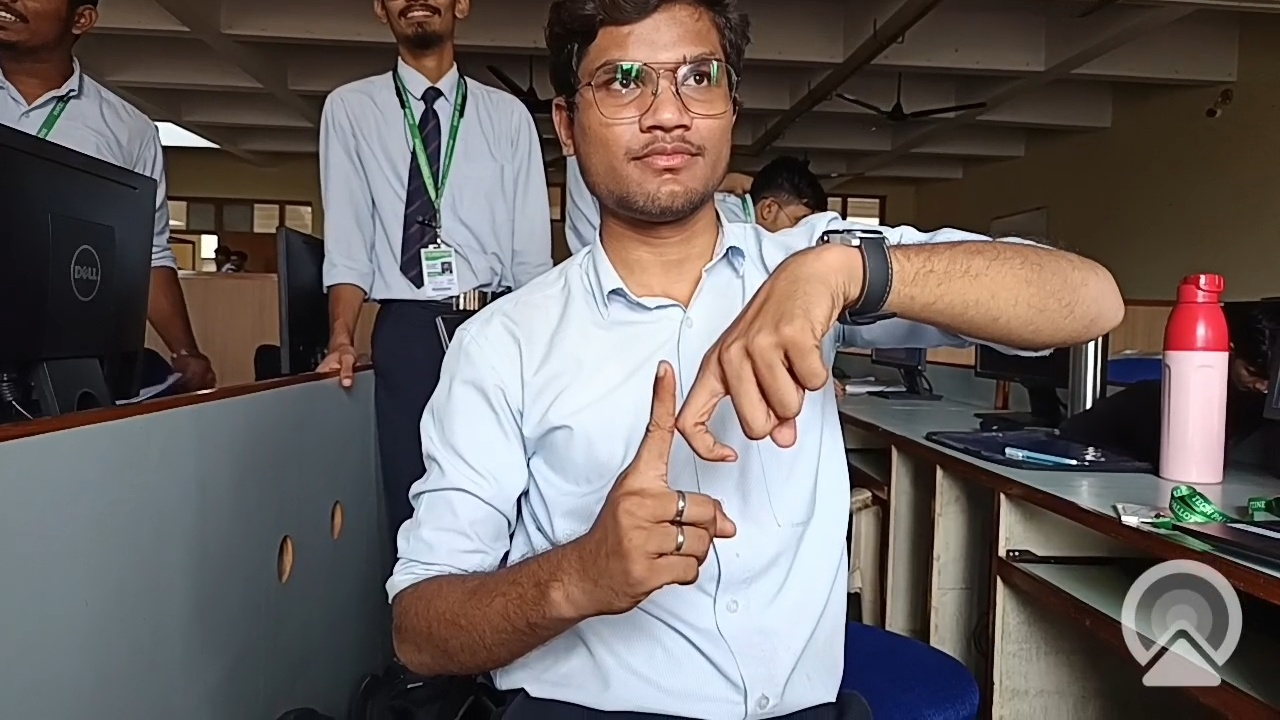K: (569, 227, 895, 682)
